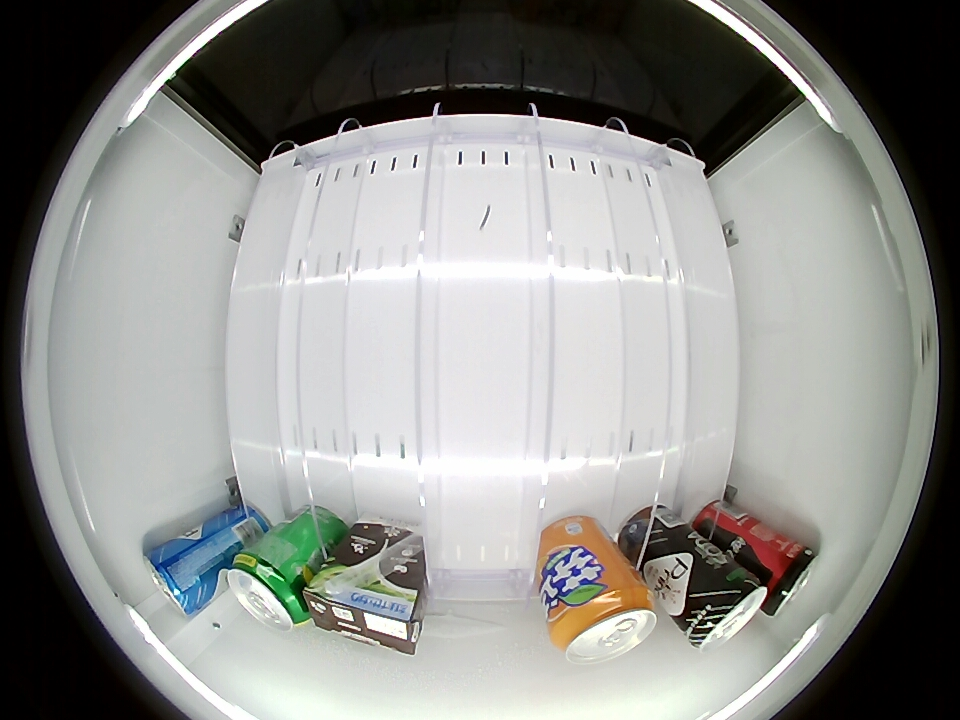fenda: (550, 583, 657, 665)
lingdukele: (761, 538, 819, 617)
qingdaowangzi-1: (680, 566, 769, 651)
qingdaowangzi-2: (143, 541, 214, 616)
weitanai2: (304, 569, 424, 655)
xuebi2: (225, 550, 311, 631)
